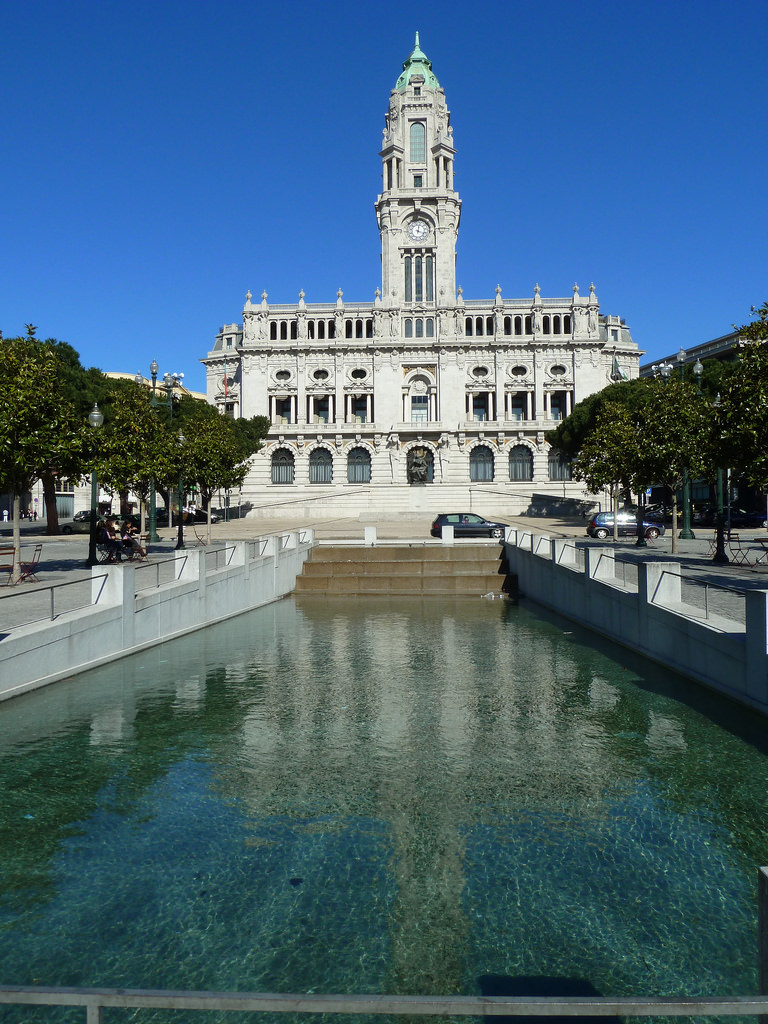camara: (200, 29, 645, 512)
